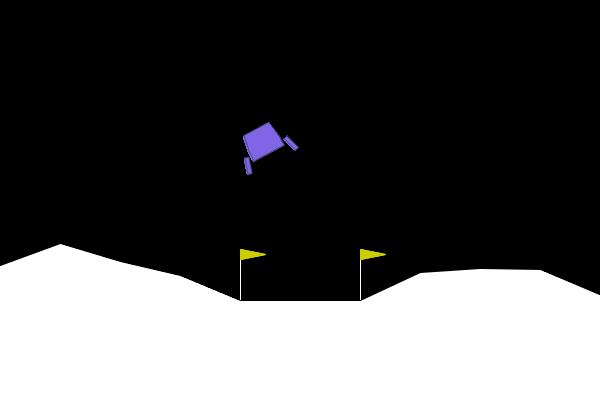lander: (228, 114, 300, 177)
